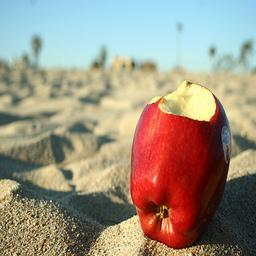apple: (131, 80, 233, 252)
